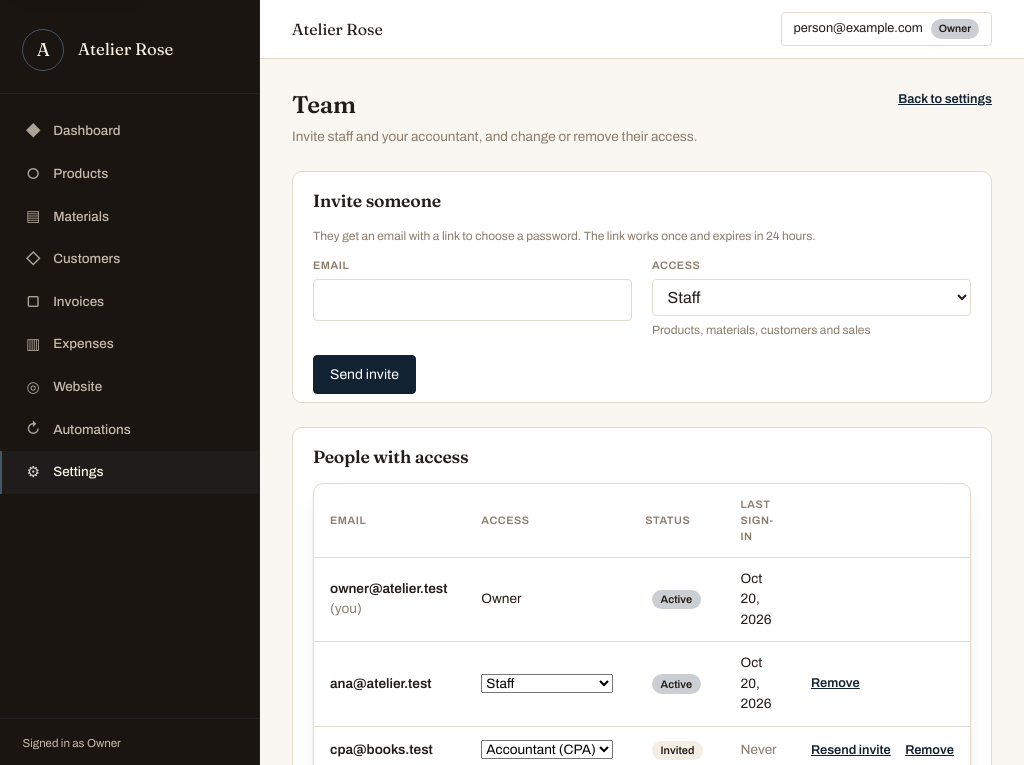
Test case: change, resend, remove › removes after confirming in the page, never a browser dialog
Click the button with aria-label "Remove ana@atelier.test" at [835, 684], box [811,671,860,697]
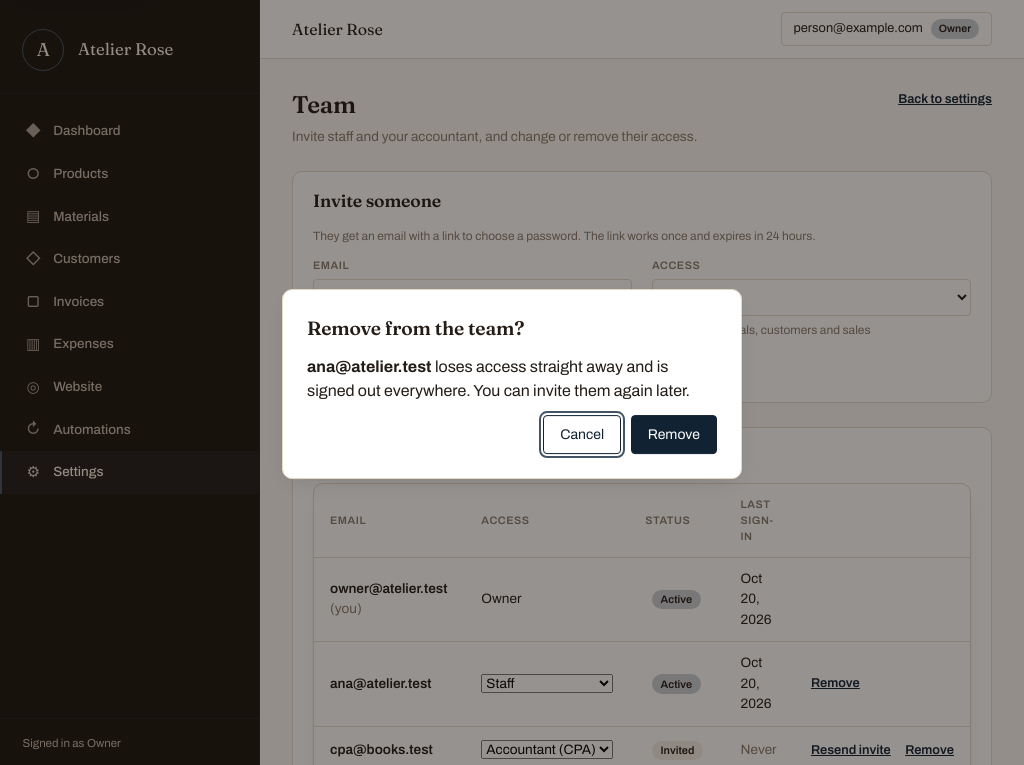
expect the text "signed out everywhere" is shown: met, box [307,358,690,399]
Click the button "Remove" at [674, 434], box [631,415,717,454]
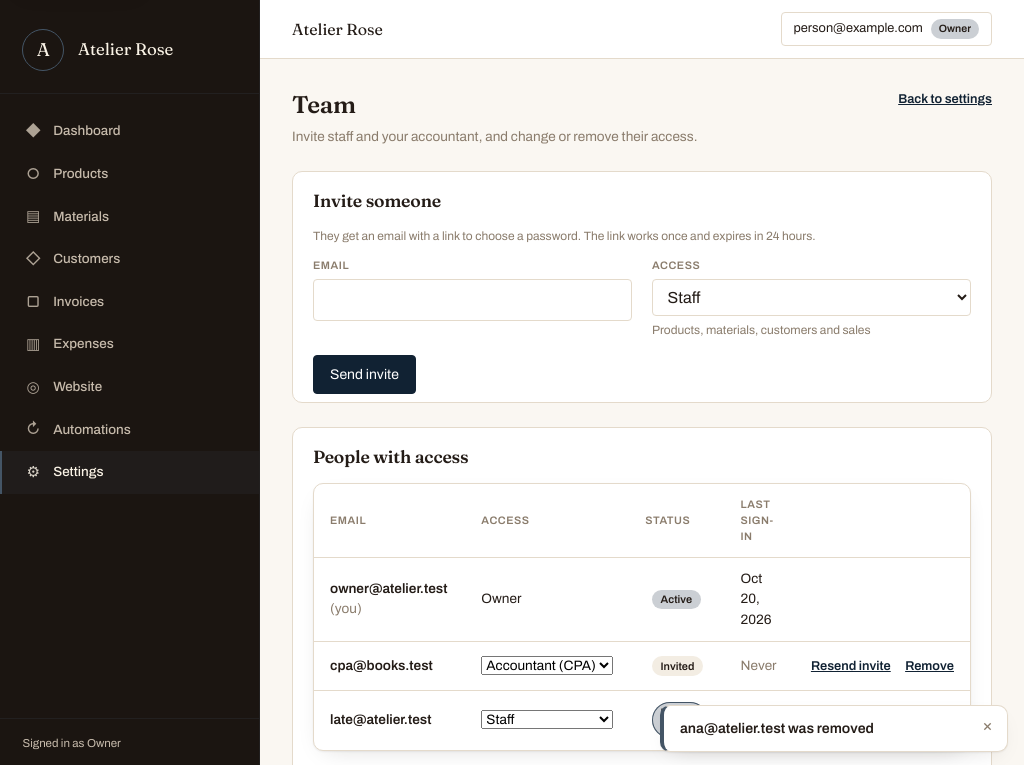
expect the text "ana@atelier.test was removed" is shown: met, box [680,721,874,736]
